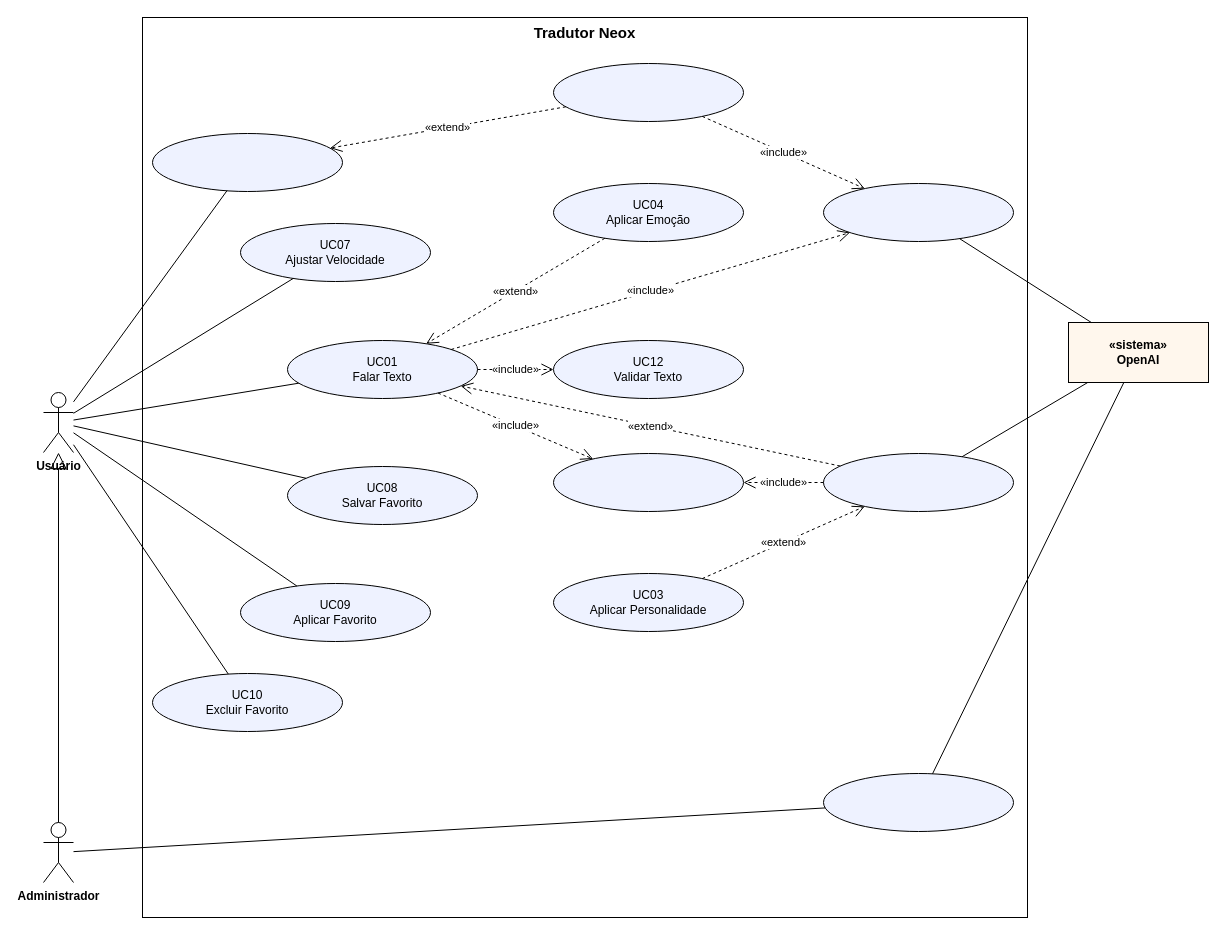
This 1226x935 diagram has some shape labels left out. Here are the shapes that lost their labels. From the top down, the centre of each, then its label:
At point 648,92: "UC06 Ouvir Prévia da Voz".
At point 247,162: "UC05 Escolher Voz".
At point 918,212: "UC14 Sintetizar Voz".
At point 648,482: "UC13 Verificar Limite de Requisições".
At point 918,482: "UC02 Traduzir Texto".
At point 918,802: "UC11 Verificar Diagnóstico".
